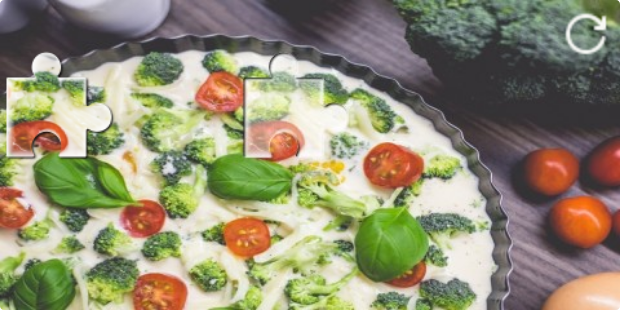target: (243, 54, 349, 158)
